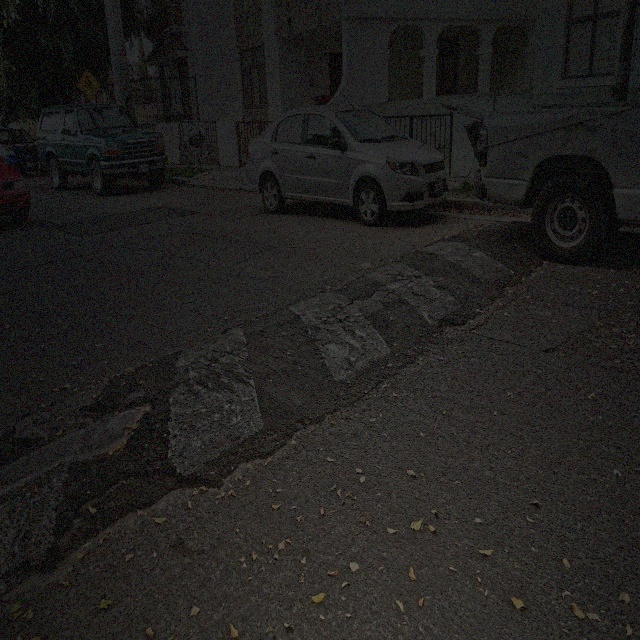pothole: (7, 370, 155, 484), (435, 317, 464, 333)
